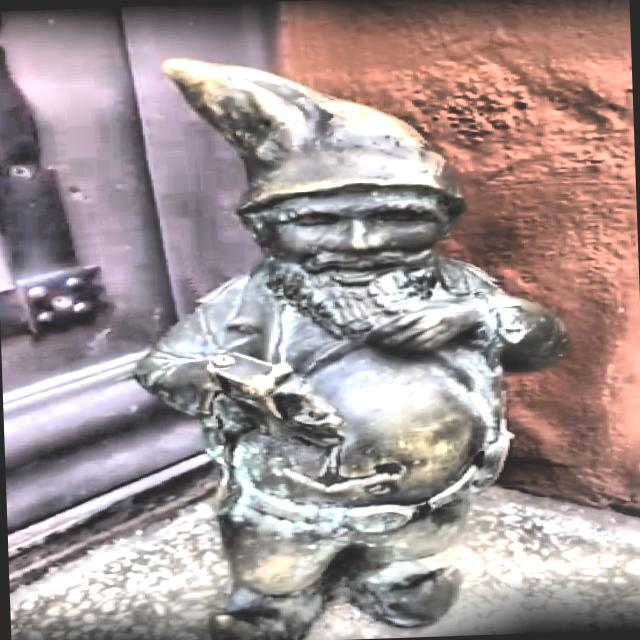TatuazystaKonstanty: (135, 60, 564, 640)
